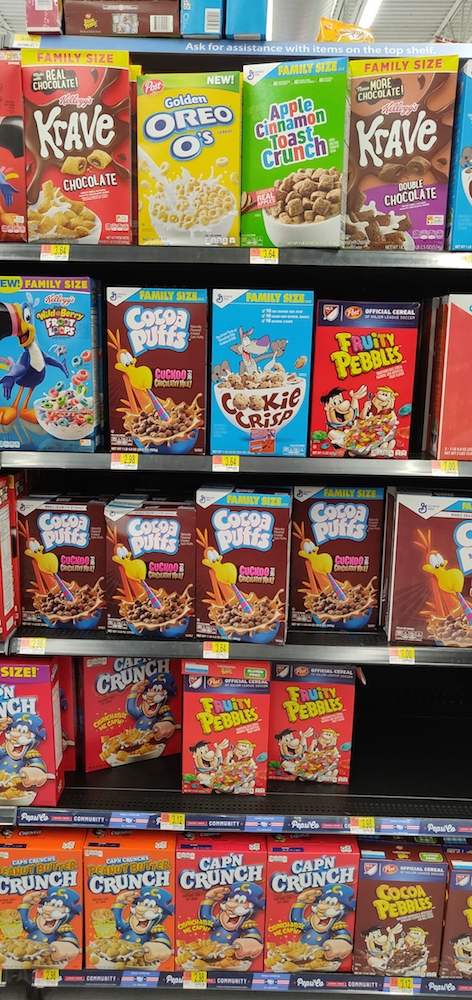Oreo Golden-568301011: (133, 71, 247, 250)
